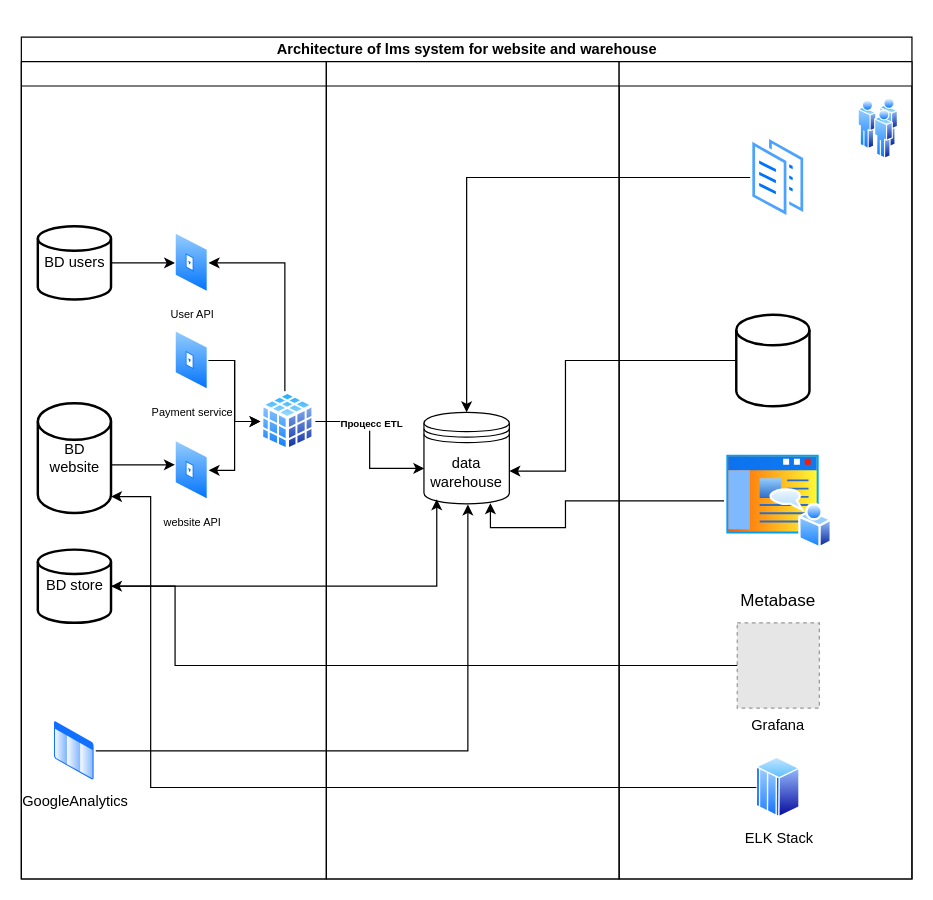
The diagram is 933 pixels wide and 900 high, and some of its shapes have lost their labels. Grey dashed boxes stand in for pictures. Each missing label, with the box of its shape:
api gateway: (260, 390, 315, 451)
Business Layer: (618, 60, 912, 879)
Excel: (750, 134, 806, 220)
Source Layer: (20, 60, 326, 879)
SQL: (734, 313, 810, 407)
Storage Layer: (325, 60, 619, 879)
